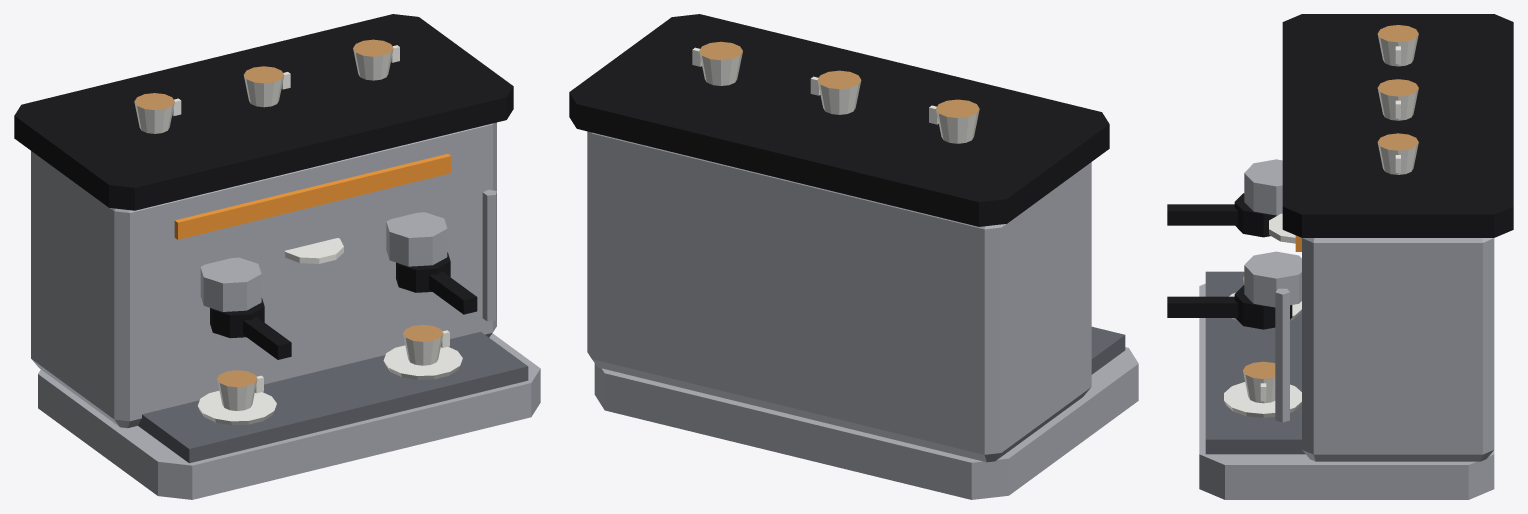
File: espresso_machine.obj
3 views of the same model, side by side, from view 1: azimuth 30°, elevation 25°; view 2: azimuth 150°, elevation 25°; view 3: azimuth 270°, elevation 25° (orthographic). The views are drawn at different scales.
Visible parts, largest first — view 1: espresso_machine; view 2: espresso_machine; view 3: espresso_machine.
Boxes of the visible parts, x1,y1,x2,y2 form: espresso_machine: [14, 14, 540, 499]; espresso_machine: [569, 14, 1138, 499]; espresso_machine: [1167, 14, 1513, 499].
Size of the model in its own units: 0.74 by 0.5455 by 0.54.
